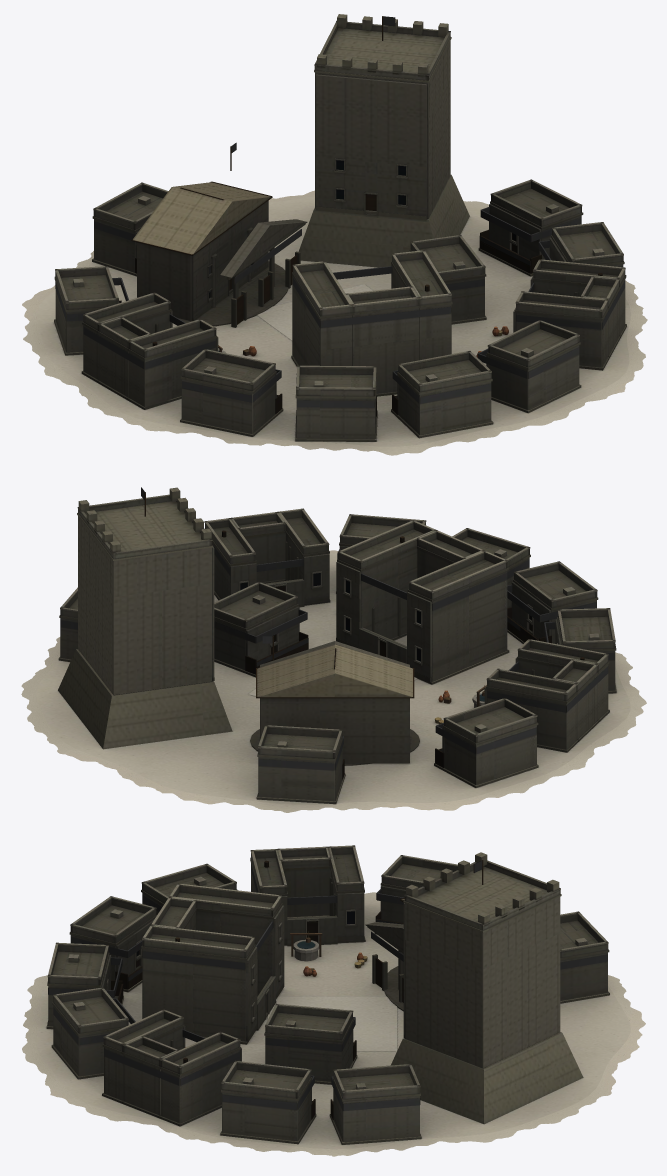
The model's file is classical-town-medium-a-israelite.glb.
3 renders of one model, top to bottom at view 1: azimuth 30°, elevation 25°; view 2: azimuth 150°, elevation 25°; view 3: azimuth 270°, elevation 25°, orthographic.
Parts seen in each view (by area): view 1: LOD0; view 2: LOD0; view 3: LOD0.
Boxes of the visible parts, x1,y1,x2,y2 form: LOD0: [22, 14, 647, 455]; LOD0: [21, 487, 646, 812]; LOD0: [22, 845, 645, 1156].
Size of what is drawn, in the model's own units: 5.93 by 2.3 by 5.94.
3 materials, 3 textured.
